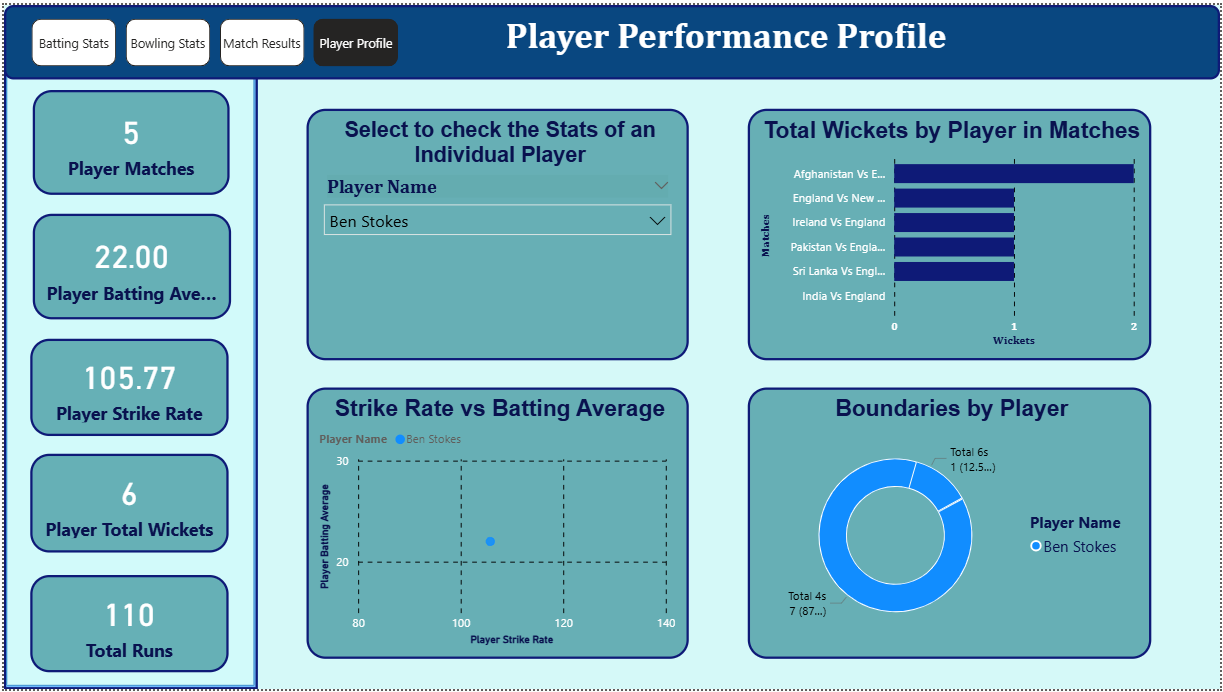

The dashboard page shown, as its layout file describes it:
{"tool":"powerbi","page":{"name":"Player Profile","canvas":[1280,720],"ordinal":3},"visuals":[{"type":"shape","box":[0,68.2,267.3,651.8],"z":0},{"type":"card","fields":{"Values":["Player_Info.Player Strike Rate"]},"box":[28.2,350.9,209.1,102.7],"z":1000},{"type":"card","fields":{"Values":["select","Player_Info.Player Batting Average"]},"box":[30,220,208.8,111.2],"z":2000},{"type":"card","fields":{"Values":["Player_Info.Player Total Wickets"]},"box":[28.2,472.7,209.1,103.6],"z":3000},{"type":"card","fields":{"Values":["Player_Info.Player Matches"]},"box":[30,90,207.5,110],"z":4000},{"type":"card","fields":{"Values":["Player_Info.Total Runs"]},"box":[28.2,600,209.1,102.7],"z":5000},{"type":"pageNavigator","box":[17.5,10,388.8,50],"z":6000},{"type":"textbox","box":[0,0,1280,78.8],"z":7000},{"type":"slicer","title":"Select to check the Stats of an Individual Player","fields":{"Values":["Player_Dim.Player Name"]},"box":[318.2,109.1,402.6,264.9],"z":8000},{"type":"scatterChart","title":"Strike Rate vs Batting Average","fields":{"X":["Player_Info.Player Strike Rate"],"Y":["Player_Info.Player Batting Average"],"Series":["Player_Dim.Player Name"]},"box":[318.2,402.6,402.6,285.7],"z":9000},{"type":"clusteredBarChart","title":"Total Wickets by Player in Matches","fields":{"Y":["Bowling_Summary.Total Wickets"],"Category":["Bowling_Summary.match"]},"box":[783.1,109.1,424.7,264.9],"z":10000},{"type":"donutChart","title":"Boundaries by Player","fields":{"Y":["Batting_Summary.Total 4s","Batting_Summary.Total 6s"],"Category":["Player_Dim.Player Name","Batting_Summary.4s","Batting_Summary.6s"]},"box":[783.1,402.6,424.7,285.7],"z":11000},{"type":"pageNavigator","box":[29.5,14.1,387.2,50],"z":12000}]}

Visuals, with their boxes in screenshot pixels (x1, y1, x2, y2), scaled from the page's 1280x720 canvas onto the 1223x692 screenshot:
shape: select_region(0, 66, 255, 691)
card - Player_Info.Player Strike Rate: select_region(27, 337, 227, 436)
card - select x Player_Info.Player Batting Average: select_region(29, 211, 228, 318)
card - Player_Info.Player Total Wickets: select_region(27, 454, 227, 554)
card - Player_Info.Player Matches: select_region(29, 86, 227, 192)
card - Player_Info.Total Runs: select_region(27, 577, 227, 675)
pageNavigator: select_region(17, 10, 388, 58)
textbox: select_region(0, 0, 1222, 76)
"Select to check the Stats of an Individual Player" slicer: select_region(304, 105, 689, 359)
"Strike Rate vs Batting Average" scatterChart: select_region(304, 387, 689, 662)
"Total Wickets by Player in Matches" clusteredBarChart: select_region(748, 105, 1154, 359)
"Boundaries by Player" donutChart: select_region(748, 387, 1154, 662)
pageNavigator: select_region(28, 14, 398, 62)
